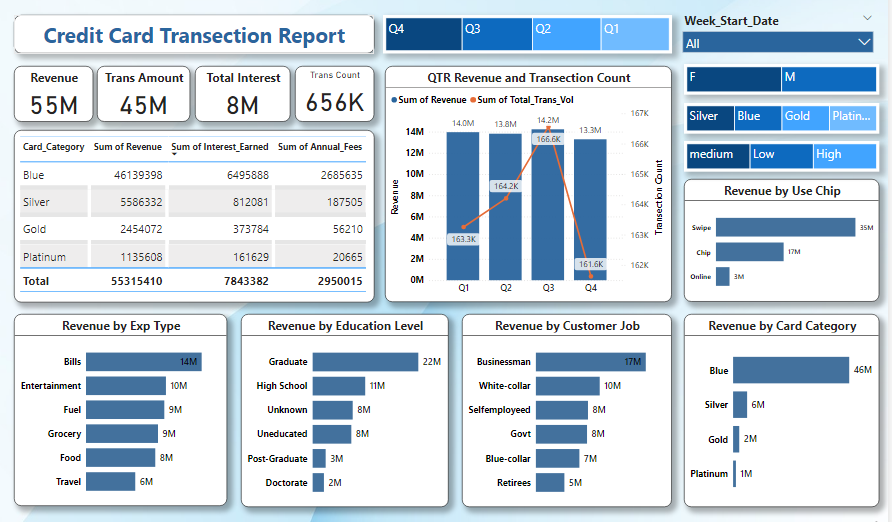

What the dashboard file says about the page in this screenshot:
{"tool":"powerbi","page":{"name":"CC Transection","canvas":[1600,1000],"ordinal":1},"visuals":[{"type":"textbox","box":[31.5,68.9,645.7,68.9],"z":0},{"type":"lineStackedColumnComboChart","title":"QTR Revenue and Transection Count","fields":{"Category":["credit_card.Qtr"],"Y":["Sum(credit_card.Revenue)"],"Y2":["Sum(credit_card.Total_Trans_Vol)"]},"box":[696.9,159.4,513.8,423.2],"z":1000},{"type":"barChart","title":"Revenue by Exp Type","fields":{"Y":["Sum(credit_card.Revenue)"],"Category":["credit_card.Exp Type"]},"box":[31.5,604.3,381.9,344.5],"z":2000},{"type":"barChart","title":"Revenue by Education Level","fields":{"Y":["Sum(credit_card.Revenue)"],"Category":["customer.Education_Level"]},"box":[439,604.3,372,346.5],"z":3000},{"type":"barChart","title":"Revenue by Customer Job","fields":{"Y":["Sum(credit_card.Revenue)"],"Category":["customer.Customer_Job"]},"box":[834.6,604.3,376,346.5],"z":4000},{"type":"barChart","title":"Revenue by Card Category","fields":{"Y":["Sum(credit_card.Revenue)"],"Category":["credit_card.Card_Category"]},"box":[1232.3,604.3,350.4,346.5],"z":5000},{"type":"barChart","title":"Revenue by Use Chip","fields":{"Y":["Sum(credit_card.Revenue)"],"Category":["credit_card.Use Chip"]},"box":[1232.3,362.2,350.4,220.5],"z":6000},{"type":"tableEx","fields":{"Values":["credit_card.Card_Category","Sum(credit_card.Revenue)","Sum(credit_card.Interest_Earned)","Sum(credit_card.Annual_Fees)"]},"box":[31.5,273.6,645.7,309.1],"z":7000},{"type":"card","title":"Revenue","fields":{"Values":["Sum(credit_card.Revenue)"]},"box":[31.5,159.4,141.7,100.4],"z":8000},{"type":"card","title":"Trans Amount","fields":{"Values":["Sum(credit_card.Total_Trans_Amt)"]},"box":[181.1,159.4,167.3,100.4],"z":9000},{"type":"card","title":"Total Interest","fields":{"Values":["Sum(credit_card.Interest_Earned)"]},"box":[356.3,159.4,171.3,100.4],"z":10000},{"type":"card","title":"Trans Count","fields":{"Values":["Sum(credit_card.Total_Trans_Vol)"]},"box":[535.4,159.4,141.7,100.4],"z":11000},{"type":"slicer","title":"Date","fields":{"Values":["credit_card.Week_Start_Date"]},"box":[1220.5,57.1,362.2,94.5],"z":12000},{"type":"treemap","fields":{"Group":["credit_card.Qtr"],"Values":["Avg(credit_card.Client_Num)"]},"box":[692.9,68.9,517.7,68.9],"z":13000},{"type":"treemap","fields":{"Group":["customer.Gender"],"Values":["Avg(customer.Client_Num)"]},"box":[1232.3,155.5,350.4,55.1],"z":14000},{"type":"treemap","fields":{"Group":["credit_card.Card_Category"],"Values":["Avg(customer.Client_Num)"]},"box":[1232.3,226.4,350.4,55.1],"z":15000},{"type":"treemap","fields":{"Group":["customer.income_group"],"Values":["Avg(customer.Client_Num)"]},"box":[1232.3,293.3,350.4,55.1],"z":16000}]}

Visuals, with their boxes on the page's 1600x1000 design canvas (x1, y1, x2, y2). These are canvas units, not pixel positions in the 892x522 screenshot, which may show the page scaled, cropped or inside an application window:
textbox: [left=32, top=69, right=677, bottom=138]
"QTR Revenue and Transection Count" lineStackedColumnComboChart: [left=697, top=159, right=1211, bottom=583]
"Revenue by Exp Type" barChart: [left=32, top=604, right=413, bottom=949]
"Revenue by Education Level" barChart: [left=439, top=604, right=811, bottom=951]
"Revenue by Customer Job" barChart: [left=835, top=604, right=1211, bottom=951]
"Revenue by Card Category" barChart: [left=1232, top=604, right=1583, bottom=951]
"Revenue by Use Chip" barChart: [left=1232, top=362, right=1583, bottom=583]
tableEx - credit_card.Card_Category x Sum(credit_card.Revenue): [left=32, top=274, right=677, bottom=583]
"Revenue" card: [left=32, top=159, right=173, bottom=260]
"Trans Amount" card: [left=181, top=159, right=348, bottom=260]
"Total Interest" card: [left=356, top=159, right=528, bottom=260]
"Trans Count" card: [left=535, top=159, right=677, bottom=260]
"Date" slicer: [left=1220, top=57, right=1583, bottom=152]
treemap - credit_card.Qtr x Avg(credit_card.Client_Num): [left=693, top=69, right=1211, bottom=138]
treemap - customer.Gender x Avg(customer.Client_Num): [left=1232, top=156, right=1583, bottom=211]
treemap - credit_card.Card_Category x Avg(customer.Client_Num): [left=1232, top=226, right=1583, bottom=282]
treemap - customer.income_group x Avg(customer.Client_Num): [left=1232, top=293, right=1583, bottom=348]
